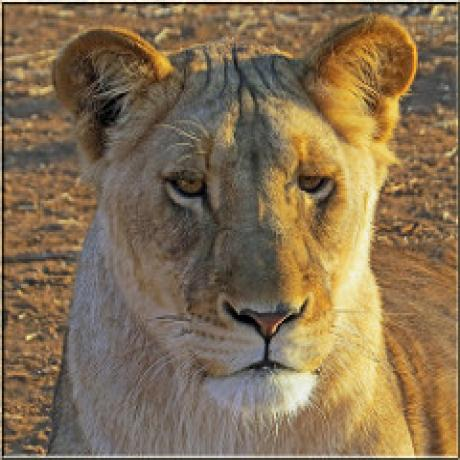Lion: (42, 14, 460, 460)
